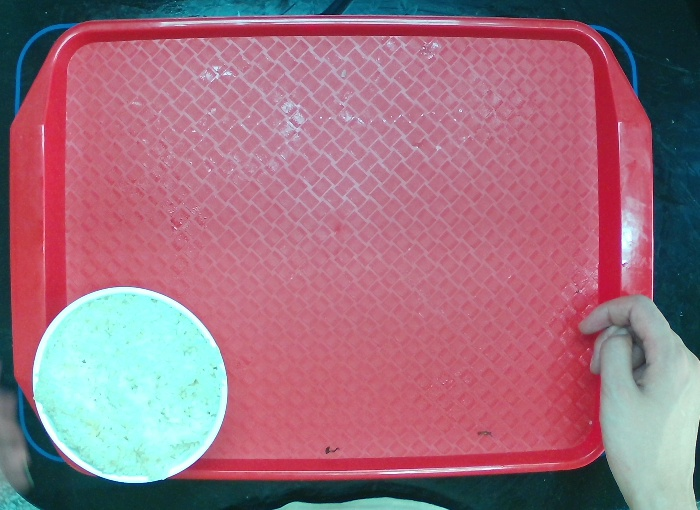YKMZ-Fan_Wan: (29, 281, 234, 487)
